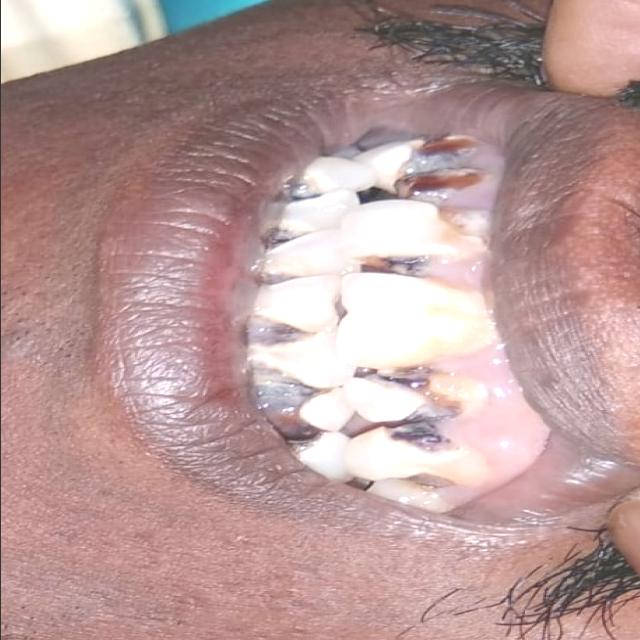Cancer: (246, 82, 498, 523)
